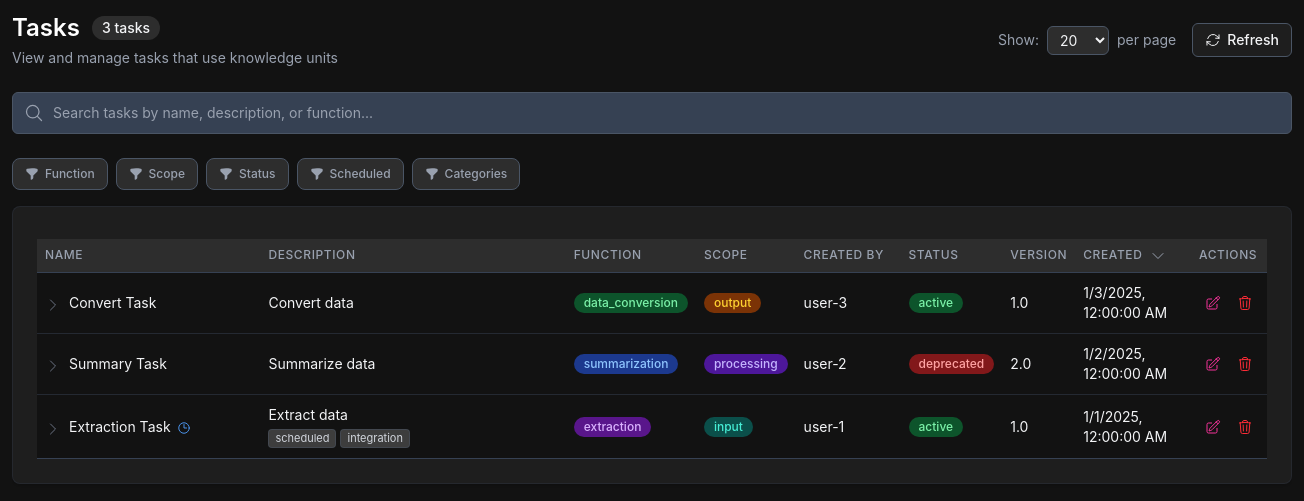
Test: Tasks - Filter Integration › opens dropdown when Function filter button is clicked
This screenshot has width=1304, height=501.
Click the button "Function".
click(60, 174)  # box left=12, top=158, right=108, bottom=190
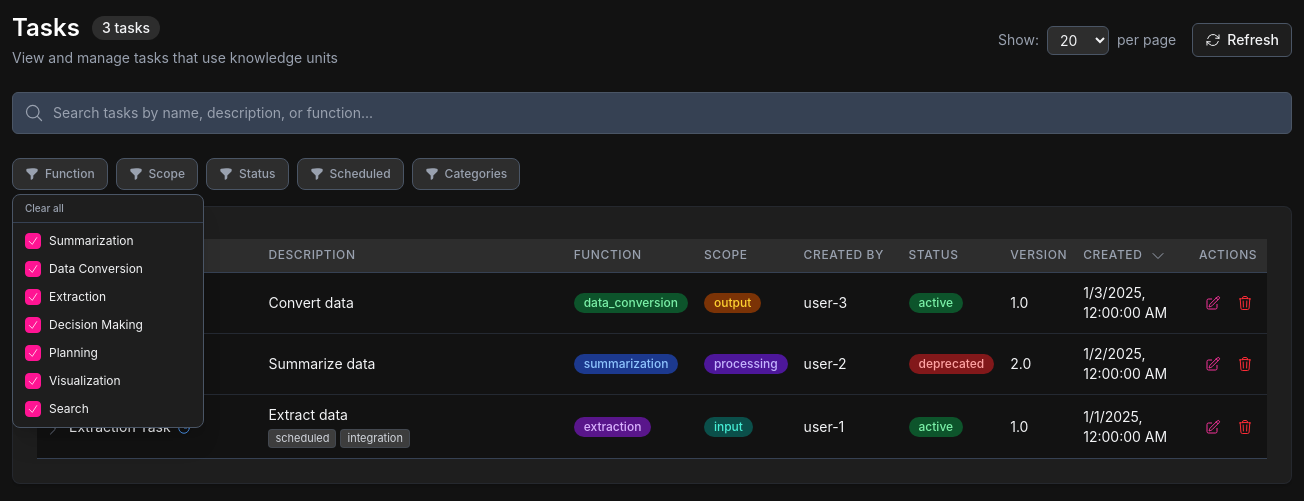
Result: the option "Extraction" is shown at left=13, top=283, right=203, bottom=311
Result: the option "Summarization" is shown at left=13, top=227, right=203, bottom=255
